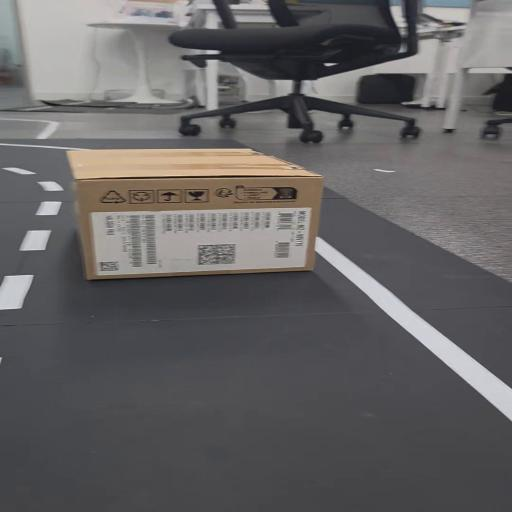Box: (58, 149, 330, 282)
